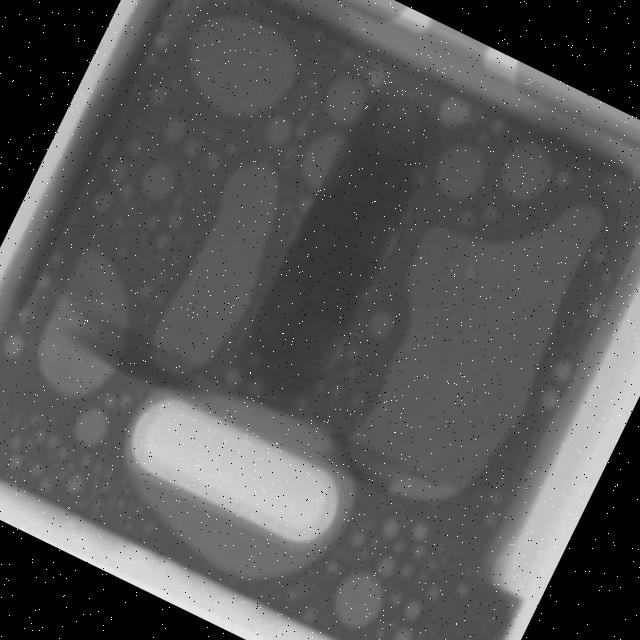chip: (0, 0, 640, 640)
void: (350, 203, 601, 498), (125, 391, 352, 577), (277, 97, 424, 373), (149, 161, 277, 374), (37, 248, 140, 397), (187, 16, 296, 117), (500, 142, 552, 200), (433, 144, 484, 199), (333, 572, 381, 627), (301, 133, 343, 189), (325, 74, 367, 125), (73, 406, 108, 446), (140, 161, 174, 200), (437, 96, 470, 124), (2, 334, 23, 357)
